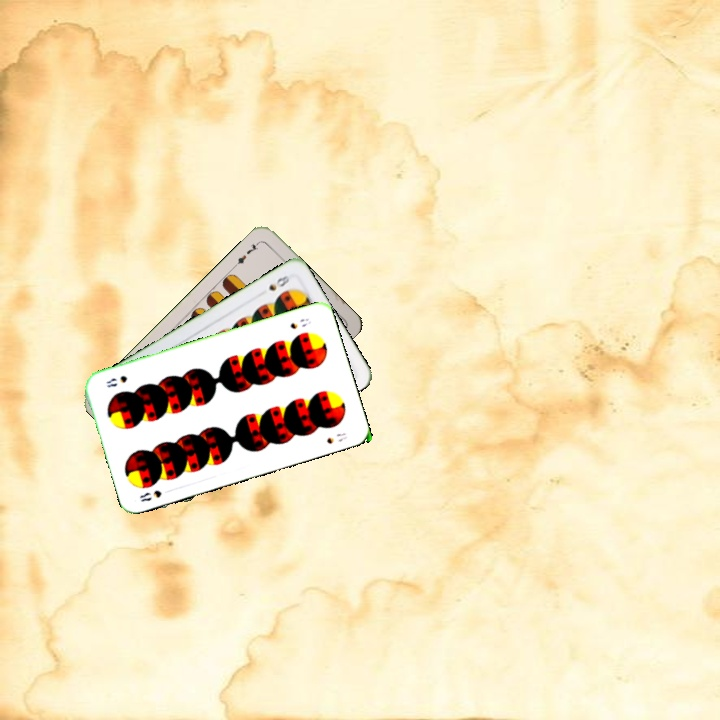E7: (230, 237, 263, 270)
S8: (265, 270, 293, 294), (135, 486, 164, 504), (286, 314, 313, 332)
